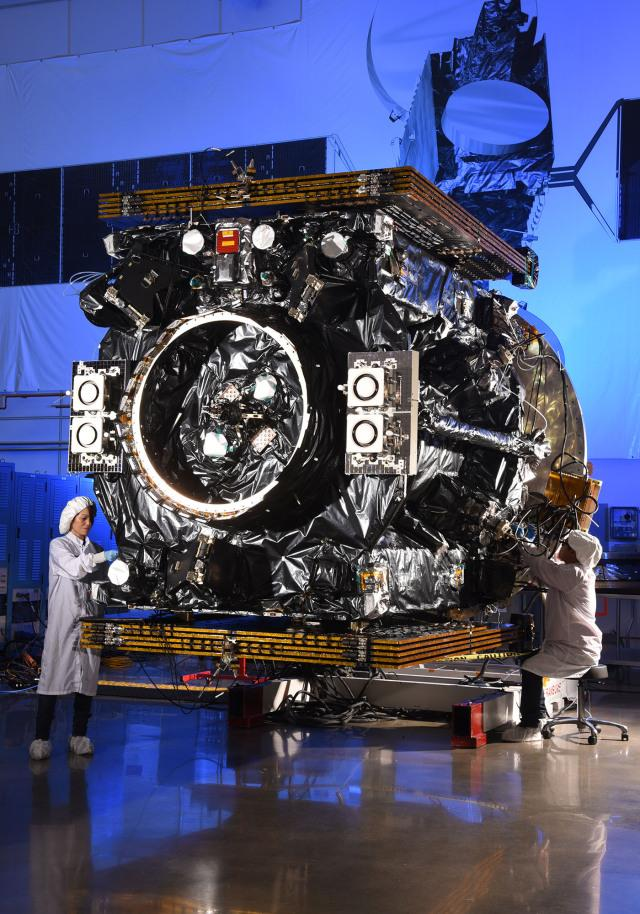antenna: (509, 304, 590, 589), (438, 73, 552, 152)
body: (84, 244, 540, 614), (400, 43, 556, 245)
solar: (94, 161, 540, 286), (76, 604, 540, 672), (614, 95, 640, 249)
